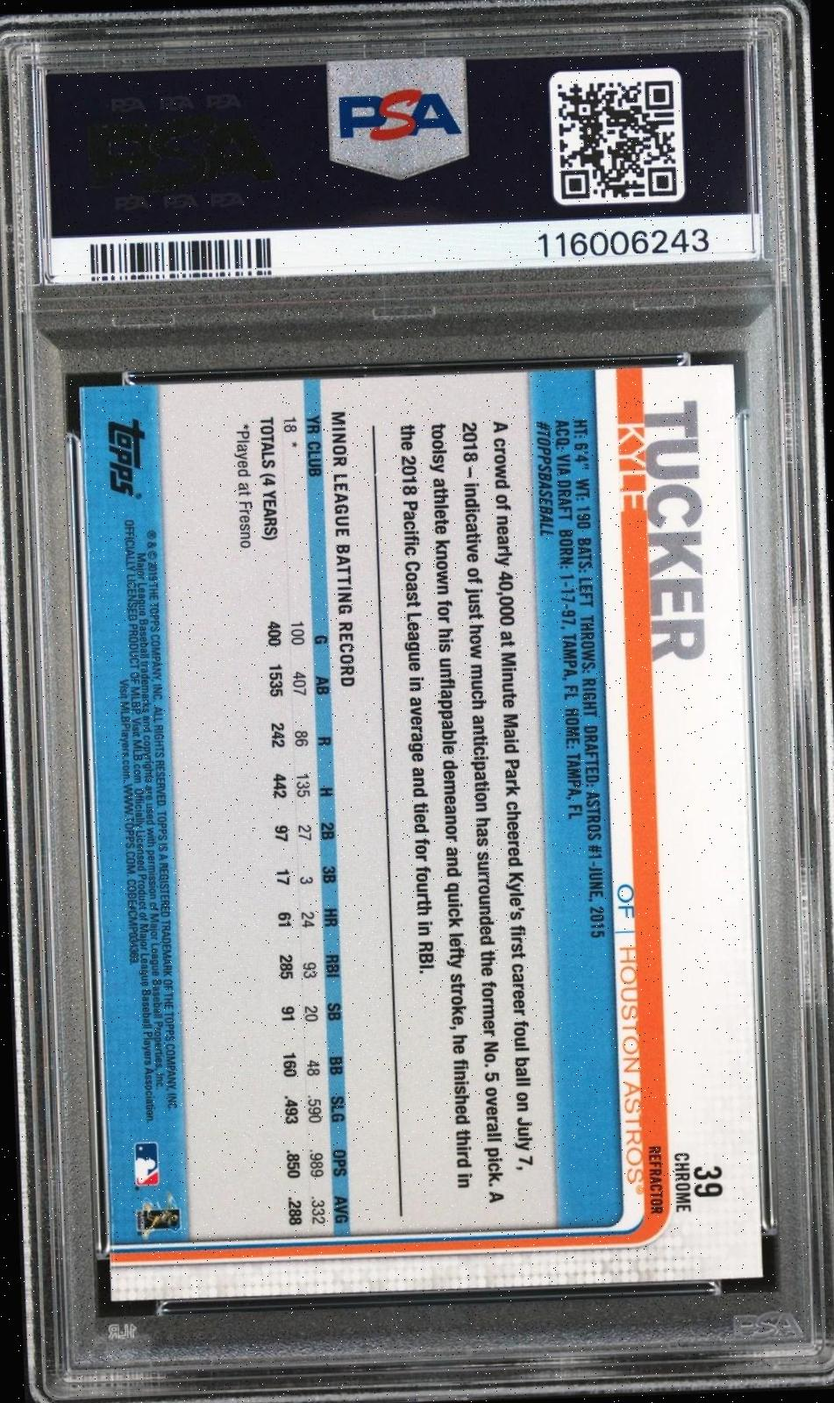card-2UtV: (78, 364, 763, 1302)
